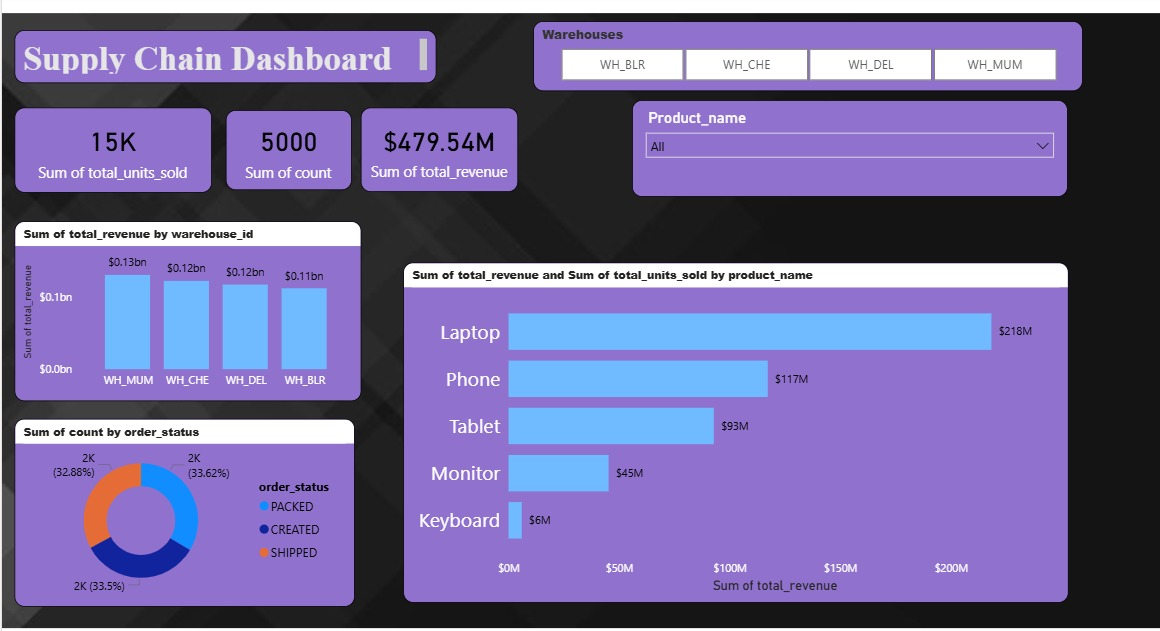

The dashboard page shown, as its layout file describes it:
{"tool":"powerbi","page":{"name":"Page 1","canvas":[1280,720],"ordinal":0},"visuals":[{"type":"textbox","box":[13.3,38.3,463.3,58.3],"z":0},{"type":"donutChart","fields":{"Category":["orders_by_status.order_status"],"Y":["Sum(orders_by_status.count)"]},"box":[13.3,465.6,373.3,206.7],"z":1000},{"type":"columnChart","fields":{"Category":["revenue_by_warehouse.warehouse_id"],"Y":["Sum(revenue_by_warehouse.total_revenue)"]},"box":[13.3,247.8,381.1,197.8],"z":2000},{"type":"clusteredBarChart","fields":{"Y":["Sum(revenue_by_product.total_revenue)"],"Category":["revenue_by_product.product_name"]},"box":[440,293.3,730,373.3],"z":3000},{"type":"card","fields":{"Values":["Sum(revenue_by_product.total_units_sold)"]},"box":[13.3,123.3,216.7,93.3],"z":4000},{"type":"card","fields":{"Values":["Sum(revenue_by_warehouse.total_revenue)"]},"box":[394.3,122.9,172.9,92.9],"z":5000},{"type":"card","fields":{"Values":["Sum(orders_by_status.count)"]},"box":[245,126.7,138.3,88.3],"z":6000},{"type":"slicer","title":"Warehouses","fields":{"Values":["revenue_by_warehouse.warehouse_id"]},"box":[582.9,28.6,602.9,77.1],"z":7000},{"type":"slicer","fields":{"Values":["revenue_by_product.product_name"]},"box":[691.7,115,478.3,106.7],"z":8000}]}

Visuals, with their boxes on the page's 1280x720 design canvas (x1, y1, x2, y2). These are canvas units, not pixel positions in the 1160x631 screenshot, which may show the page scaled, cropped or inside an application window:
textbox: [13,38,477,97]
donutChart - orders_by_status.order_status x Sum(orders_by_status.count): [13,466,387,672]
columnChart - revenue_by_warehouse.warehouse_id x Sum(revenue_by_warehouse.total_revenue): [13,248,394,446]
clusteredBarChart - Sum(revenue_by_product.total_revenue) x revenue_by_product.product_name: [440,293,1170,667]
card - Sum(revenue_by_product.total_units_sold): [13,123,230,217]
card - Sum(revenue_by_warehouse.total_revenue): [394,123,567,216]
card - Sum(orders_by_status.count): [245,127,383,215]
"Warehouses" slicer: [583,29,1186,106]
slicer - revenue_by_product.product_name: [692,115,1170,222]
